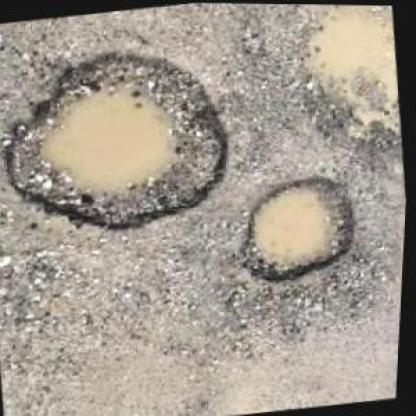pothole: (0, 33, 248, 251), (234, 168, 369, 290)
